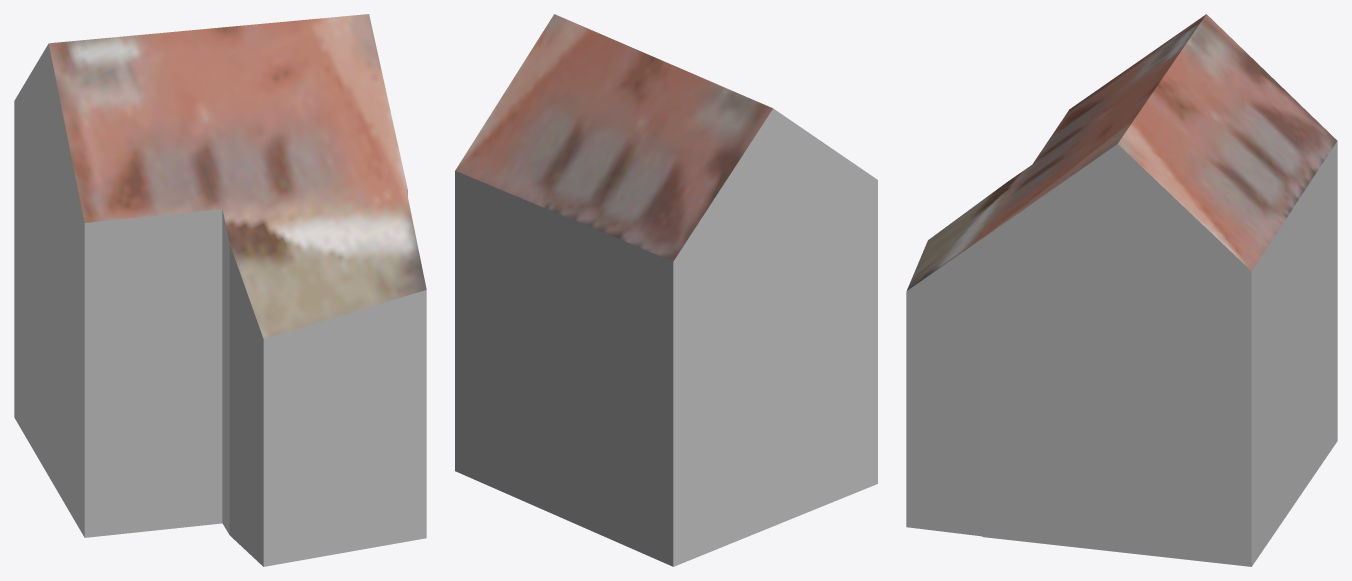
Rendered from DEBW_0010007Tx5A.gltf.
The picture shows the model from 3 angles, left to right: view 1: azimuth 30°, elevation 25°; view 2: azimuth 150°, elevation 25°; view 3: azimuth 270°, elevation 25°; orthographic projection. The views are drawn at different scales.
Parts seen in each view (by area): view 1: Z_UP; view 2: Z_UP; view 3: Z_UP.
Boxes of the visible parts, x1,y1,x2,y2 form: Z_UP: (14,14,426,566); Z_UP: (455,14,877,566); Z_UP: (906,14,1337,566).
Size of the model in its own units: 13.6 by 16.45 by 15.63.
2 materials, 1 textured.
